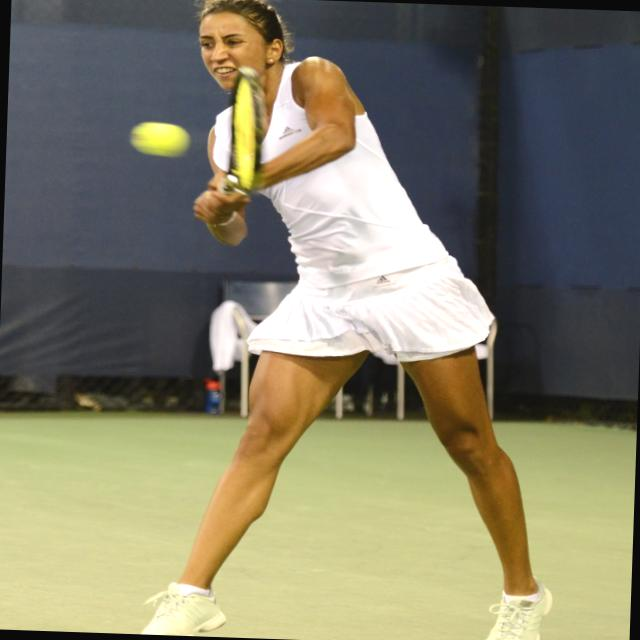Tennis ball: (129, 120, 189, 158)
